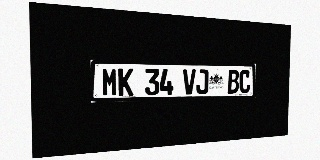3: (145, 69, 159, 95)
4: (160, 69, 173, 95)
B: (228, 70, 239, 94)
C: (239, 70, 250, 93)
J: (196, 69, 209, 94)
K: (118, 68, 133, 96)
M: (102, 68, 118, 96)
V: (183, 69, 196, 95)
